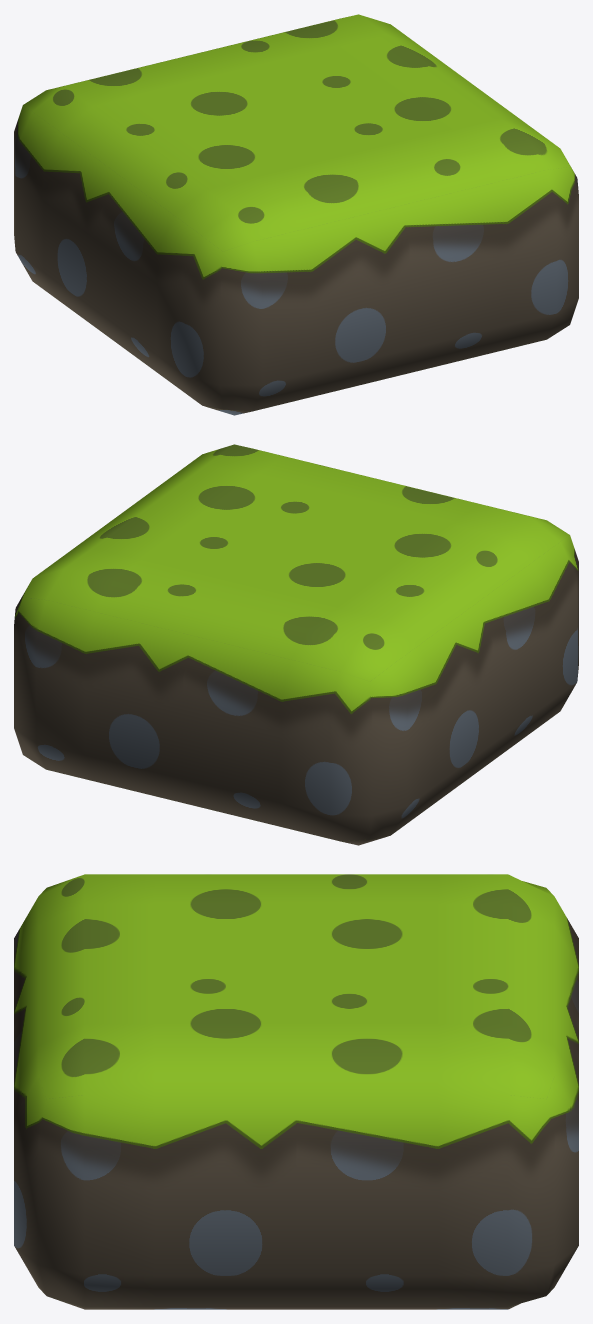
The model's file is tile-ledge2.obj.
3 renders of one model, top to bottom at view 1: azimuth 30°, elevation 25°; view 2: azimuth 150°, elevation 25°; view 3: azimuth 270°, elevation 25°, orthographic. The views are drawn at different scales.
Visible parts, largest first — view 1: Cube.005; view 2: Cube.005; view 3: Cube.005.
Boxes of the visible parts, <box> form: Cube.005: <box>14,14,578,415</box>; Cube.005: <box>14,444,578,845</box>; Cube.005: <box>14,874,578,1309</box>.
Size of the model in its own units: 128 by 64 by 128.
Materials: 3 (3 with a texture image).
